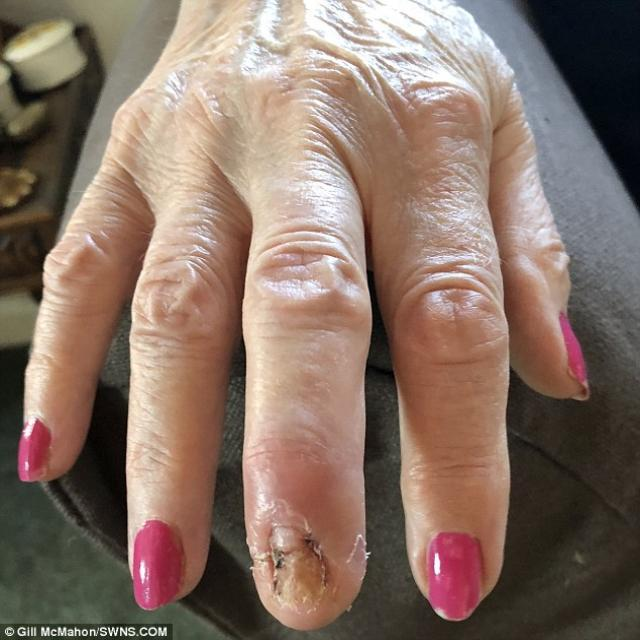Fingernail: (429, 532, 482, 620), (134, 521, 182, 611), (560, 313, 589, 387), (19, 420, 50, 482)
